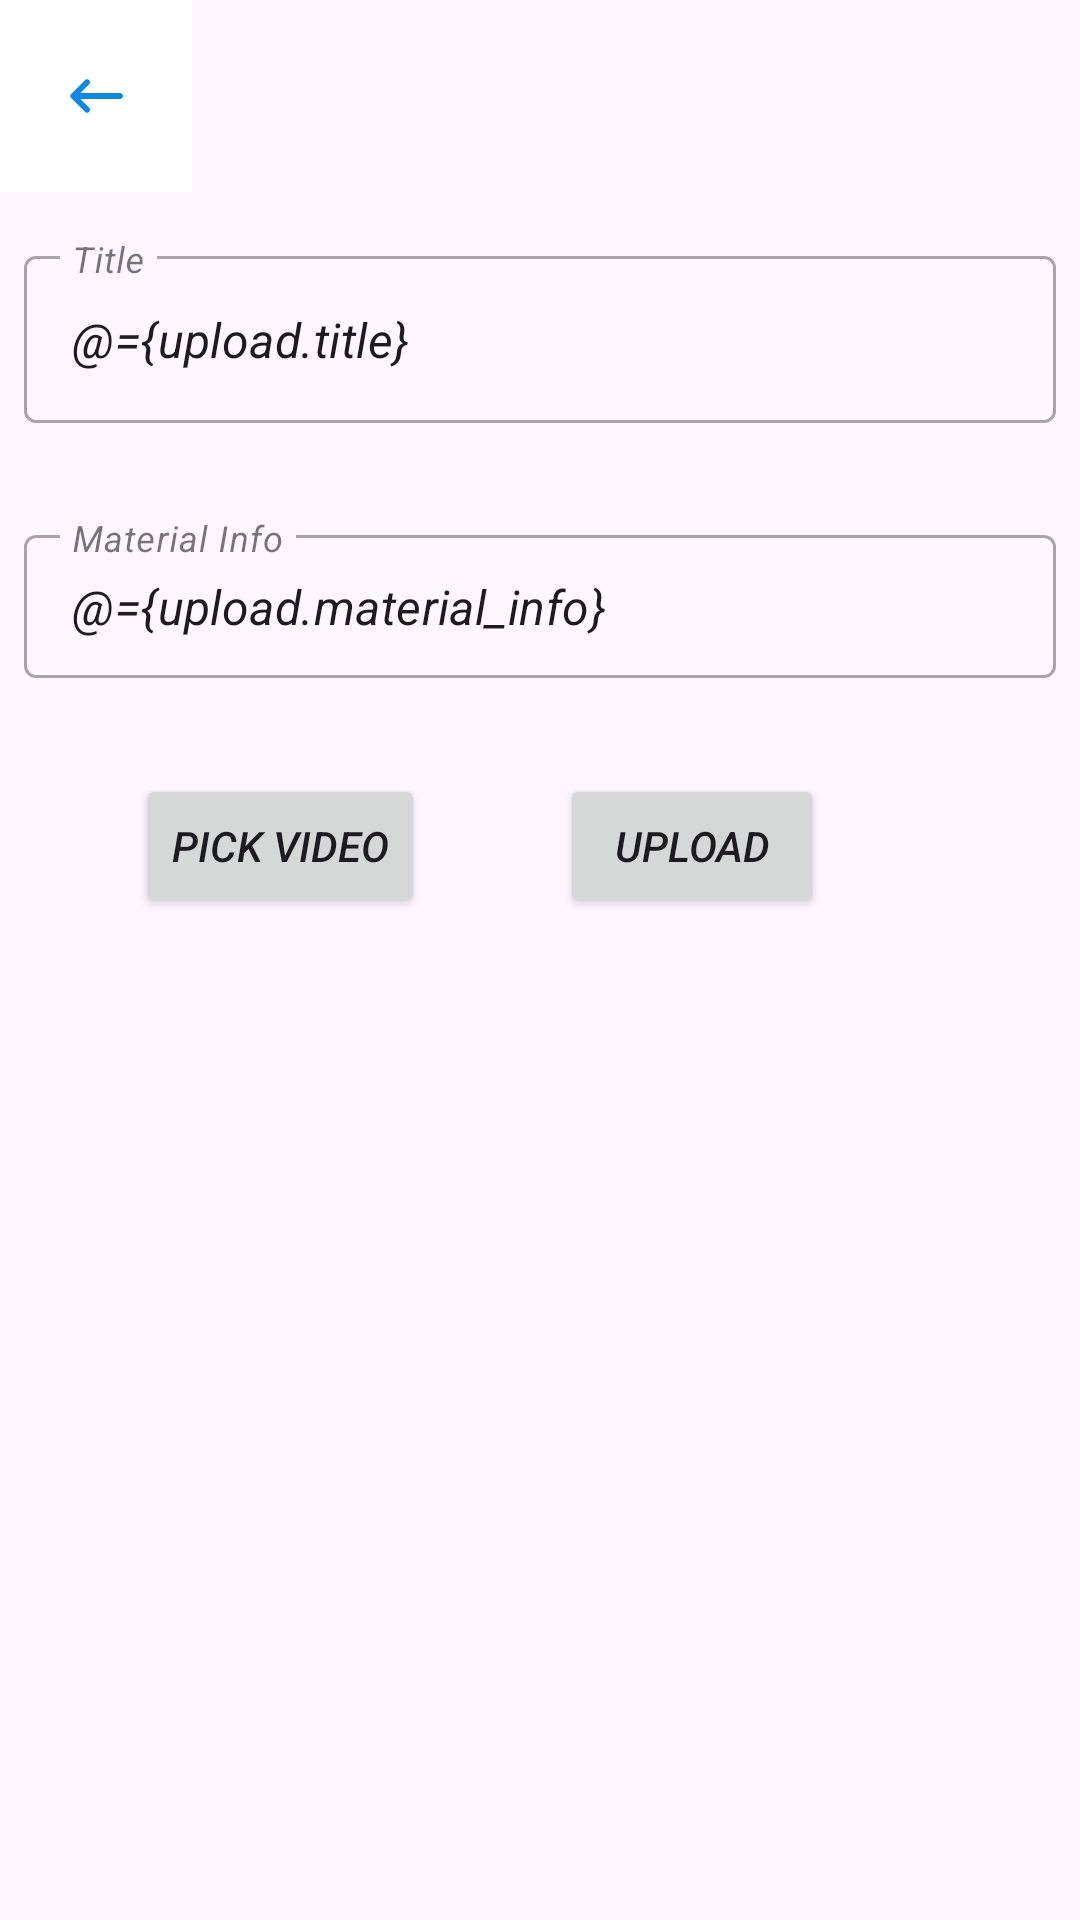

Named icons in this screenshot (1080px×1920px) and their bounding boxes, box=[x1, y1, x2, y2]:
keyboard backspace: box=[70, 79, 123, 113]
